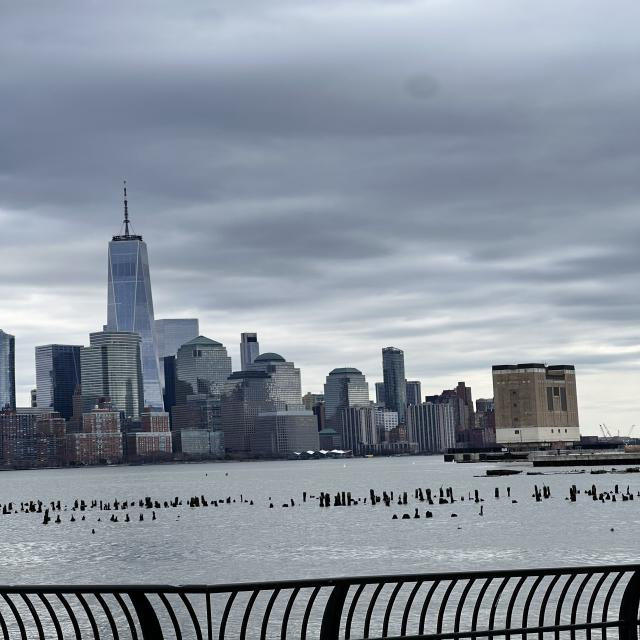WTC: (106, 182, 154, 330)
